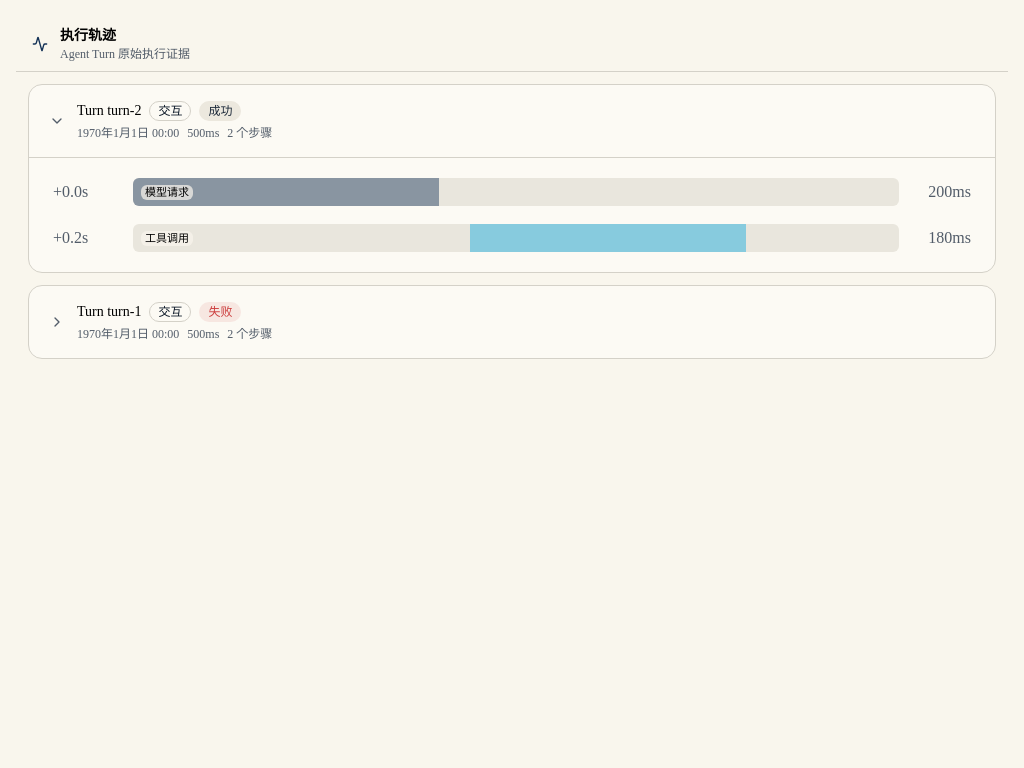
Test: executionTracePanel › 原始证据读取失败时结束 loading 并展示错误
Click the button "+0.0s 模型请求 200ms" at coordinates (512, 192), box [41,170,983,214]
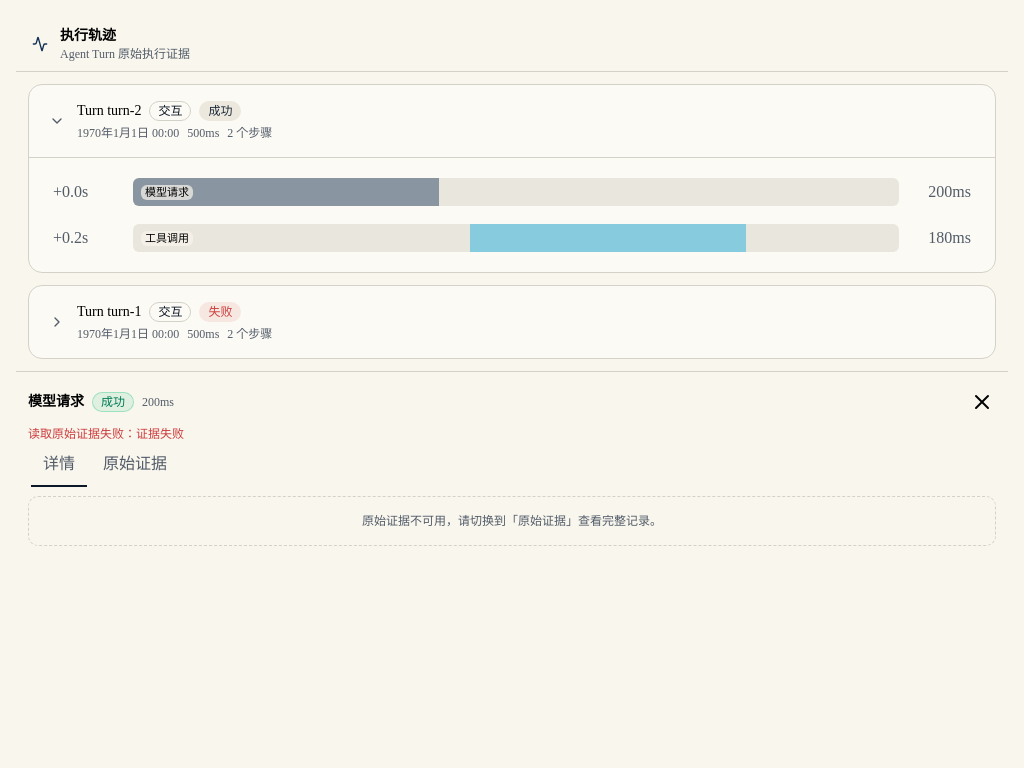
Now the text "读取原始证据失败：证据失败" is shown, box [28,427,184,441]
